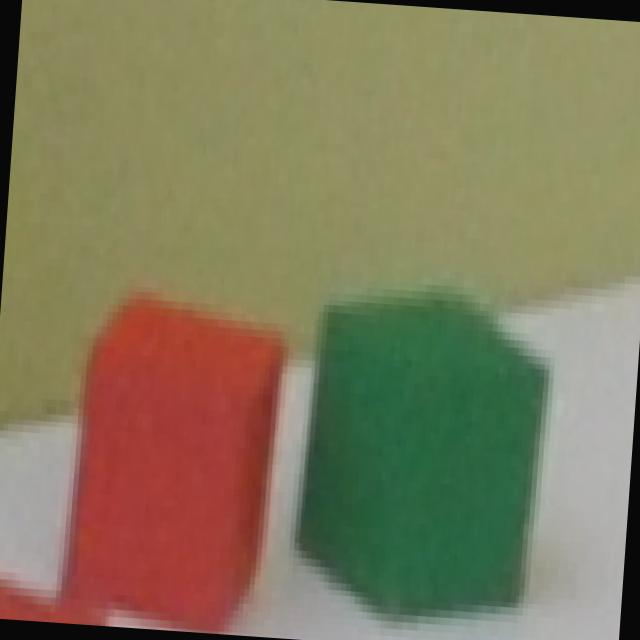green cube: (293, 292, 552, 615)
red cube: (75, 286, 285, 633)
